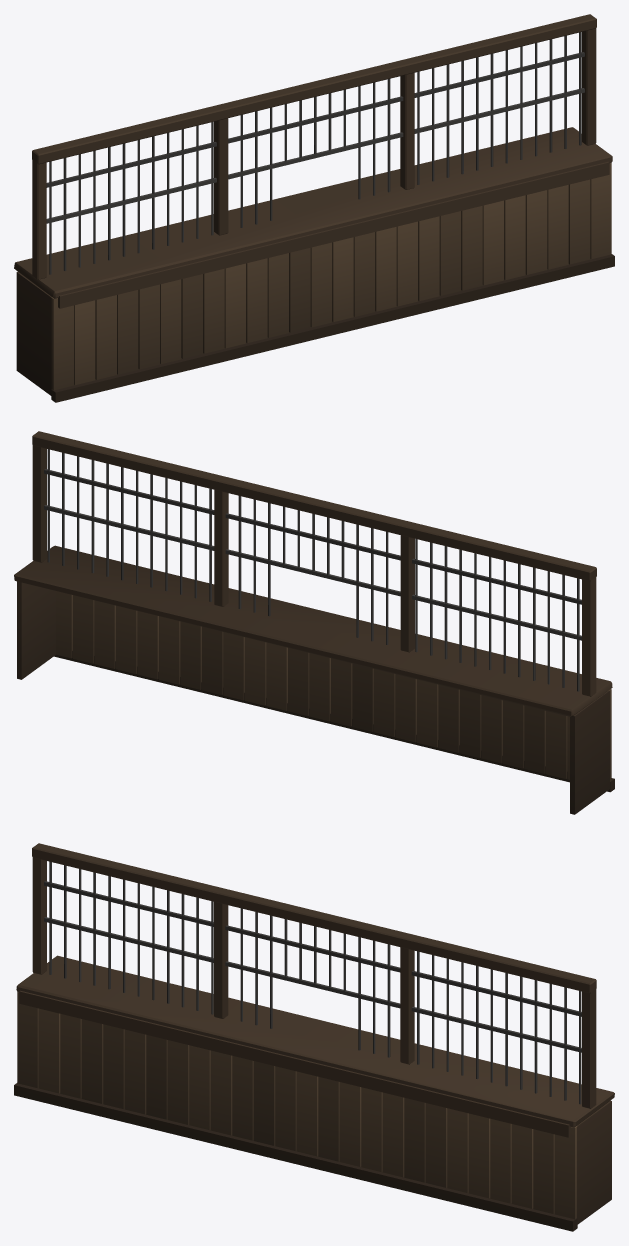
The model's file is mostrador.glb.
3 views of the same model, one above another, from view 1: azimuth 30°, elevation 25°; view 2: azimuth 150°, elevation 25°; view 3: azimuth 330°, elevation 25° (orthographic).
Visible parts, largest first — view 1: Mostrador; view 2: Mostrador; view 3: Mostrador.
Boxes of the visible parts, x1=… form: Mostrador: x1=14, y1=14, x2=614, y2=402; Mostrador: x1=14, y1=431, x2=614, y2=814; Mostrador: x1=14, y1=843, x2=614, y2=1231.
Size of what is drawn, in the model's own units: 5.71 by 2.29 by 0.7514.
